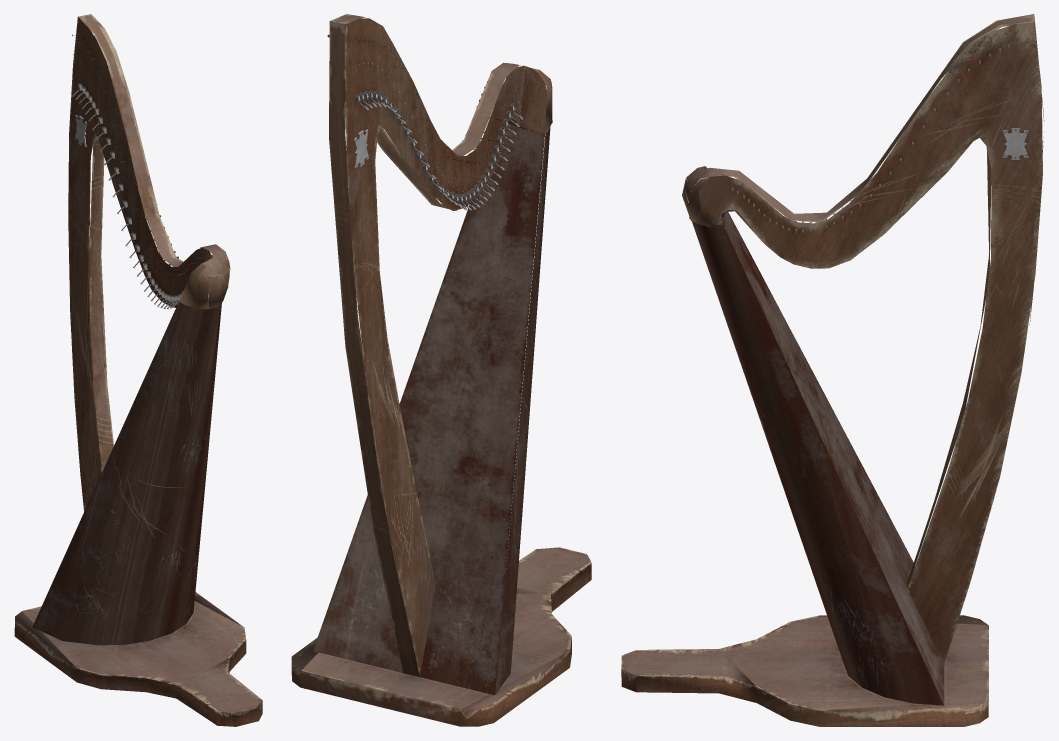
The model's file is harp.glb.
The picture shows the model from 3 angles, left to right: view 1: azimuth 30°, elevation 25°; view 2: azimuth 150°, elevation 25°; view 3: azimuth 270°, elevation 25°; orthographic projection. The views are drawn at different scales.
Parts seen in each view (by area): view 1: Object_4; view 2: Object_4; view 3: Object_4.
Part boxes in pixels (x1,y1,x2,y2): Object_4: (14,14,262,726); Object_4: (291,14,591,726); Object_4: (621,14,1044,726).
Size of the model in its own units: 0.187 by 0.6137 by 0.351.
Materials: 1 (1 with a texture image).
